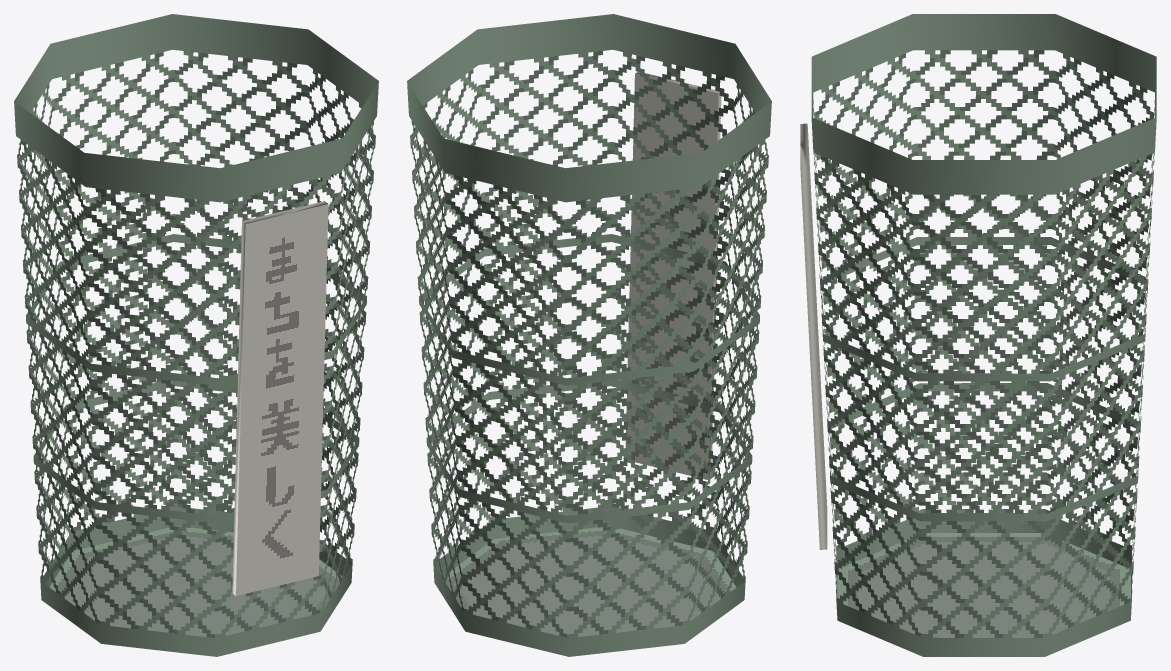
Rendered from 00b5_Trash_Can.glb.
The picture shows the model from 3 angles, left to right: view 1: azimuth 30°, elevation 25°; view 2: azimuth 150°, elevation 25°; view 3: azimuth 270°, elevation 25°; orthographic projection.
Parts seen in each view (by area): view 1: part_0; view 2: part_0; view 3: part_0.
Boxes of the visible parts, <box> form: part_0: <box>14,14,378,656</box>; part_0: <box>407,14,771,656</box>; part_0: <box>800,14,1156,656</box>.
Size of the model in its own units: 0.4619 by 0.75 by 0.4771.
1 material, 1 textured.
